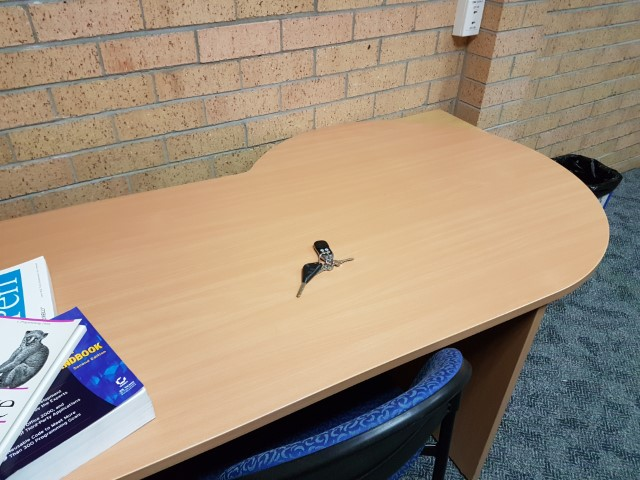key: (295, 260, 319, 296)
